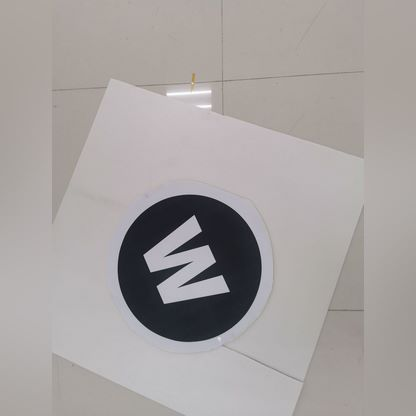W: (135, 205, 238, 318)
